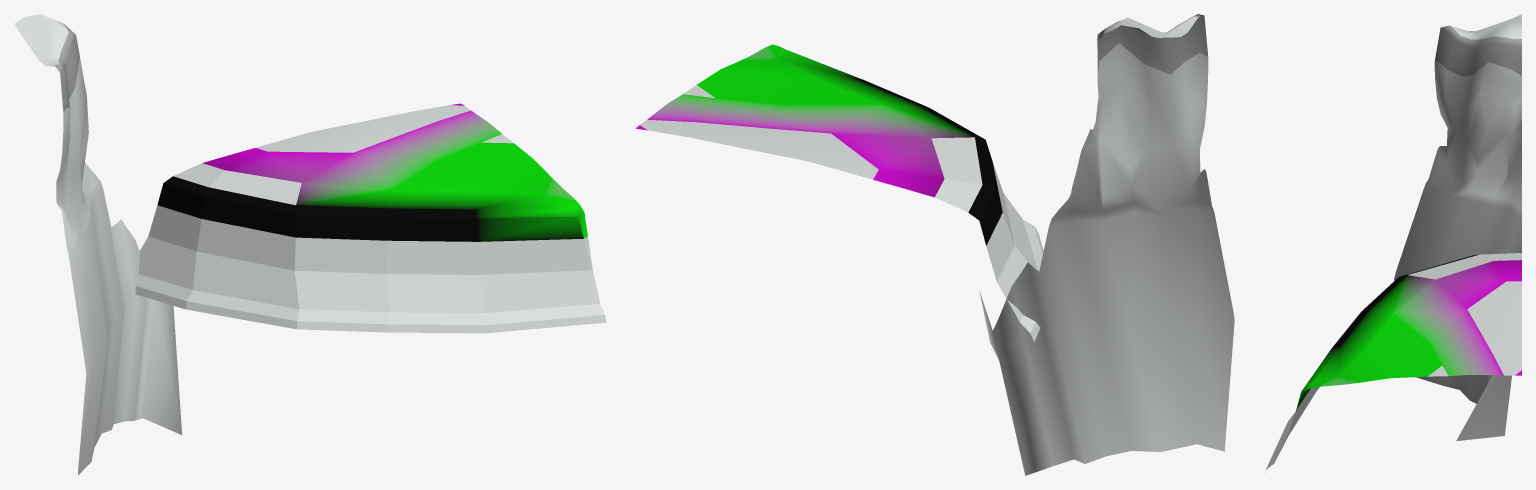
The picture shows the model from 3 angles, left to right: view 1: azimuth 30°, elevation 25°; view 2: azimuth 150°, elevation 25°; view 3: azimuth 270°, elevation 25°; orthographic projection. The views are drawn at different scales.
Parts seen in each view (by area): view 1: G:\FFXIV-MapTools\exports\f1f1\bg\ffxiv\fst_f1\fld\f1f1\bgpl (×7); view 2: G:\FFXIV-MapTools\exports\f1f1\bg\ffxiv\fst_f1\fld\f1f1\bgpl (×7); view 3: G:\FFXIV-MapTools\exports\f1f1\bg\ffxiv\fst_f1\fld\f1f1\bgpl (×7).
Part boxes in pixels (x1,y1,x2,y2): G:\FFXIV-MapTools\exports\f1f1\bg\ffxiv\fst_f1\fld\f1f1\bgpl (×7): (14,14,606,475); G:\FFXIV-MapTools\exports\f1f1\bg\ffxiv\fst_f1\fld\f1f1\bgpl (×7): (636,14,1234,475); G:\FFXIV-MapTools\exports\f1f1\bg\ffxiv\fst_f1\fld\f1f1\bgpl (×7): (1264,14,1521,472).
Bounding box in the file's own units: 128 × 115 × 72.22.
